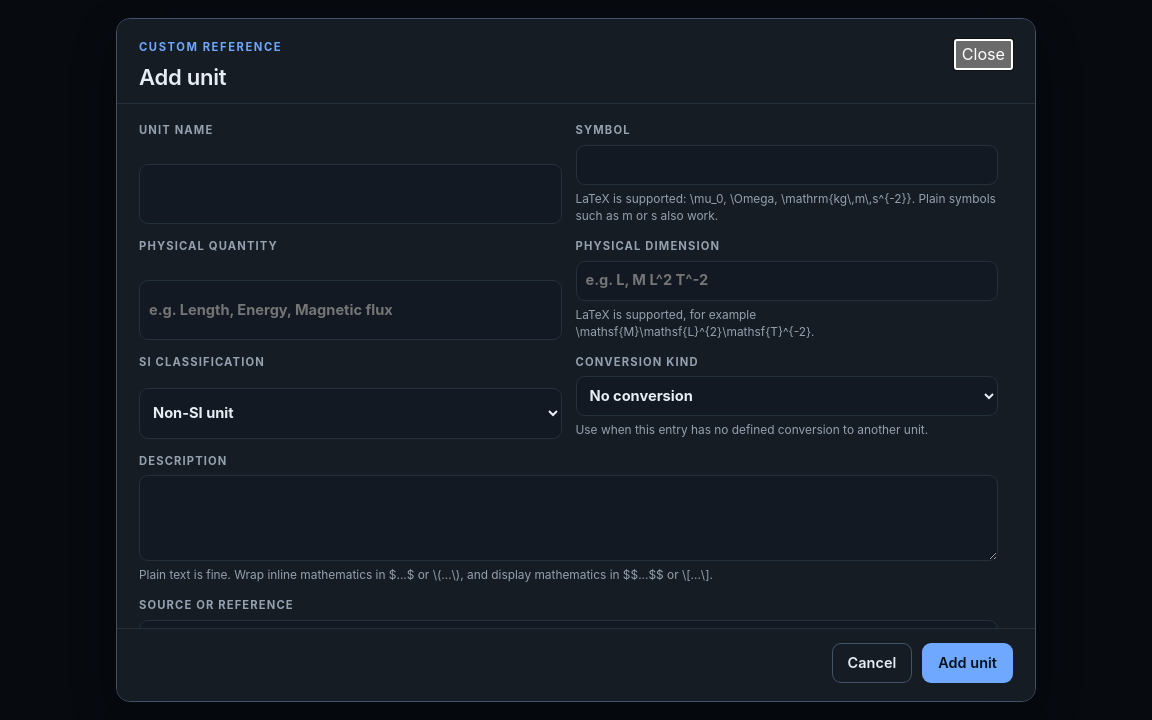
Test: CustomUnitEditor › shows a general error for a duplicate symbol
Type "Foot" into the field labelled "Unit name" at (350, 194), box [139,164,562,224]
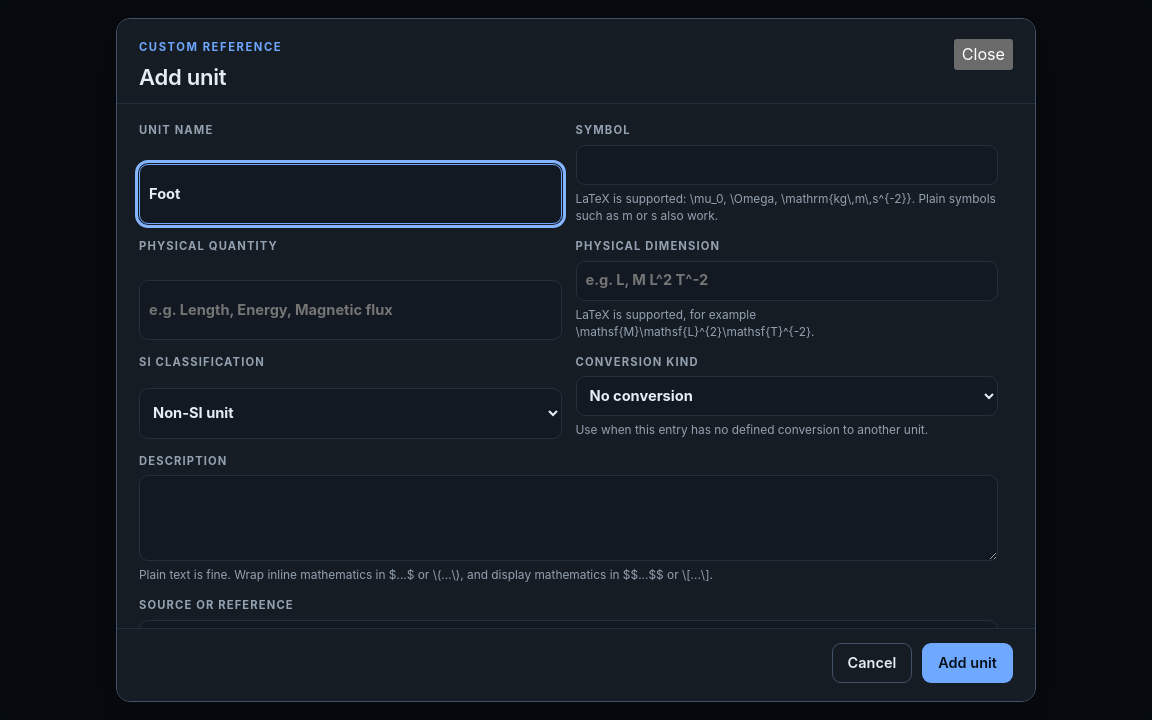
Type "ft" into the field labelled "Symbol" at (787, 165), box [576,145,998,185]
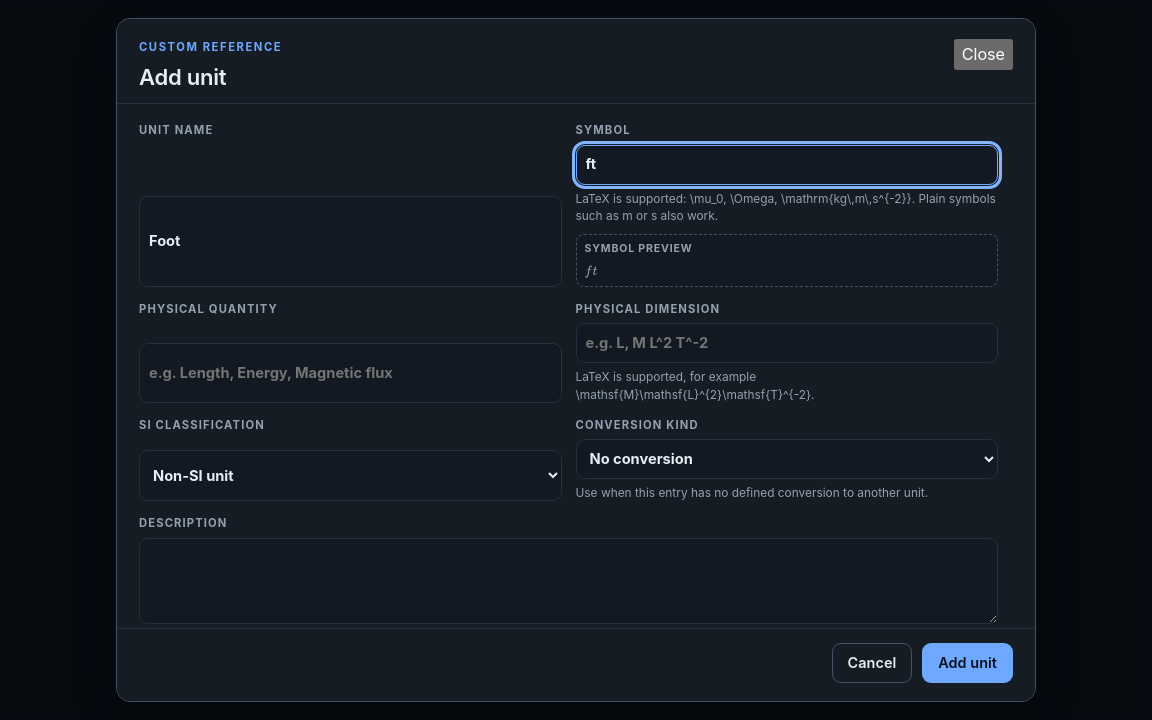
Type "Length" into the field labelled "Physical quantity" at (350, 373), box [139,343,562,403]
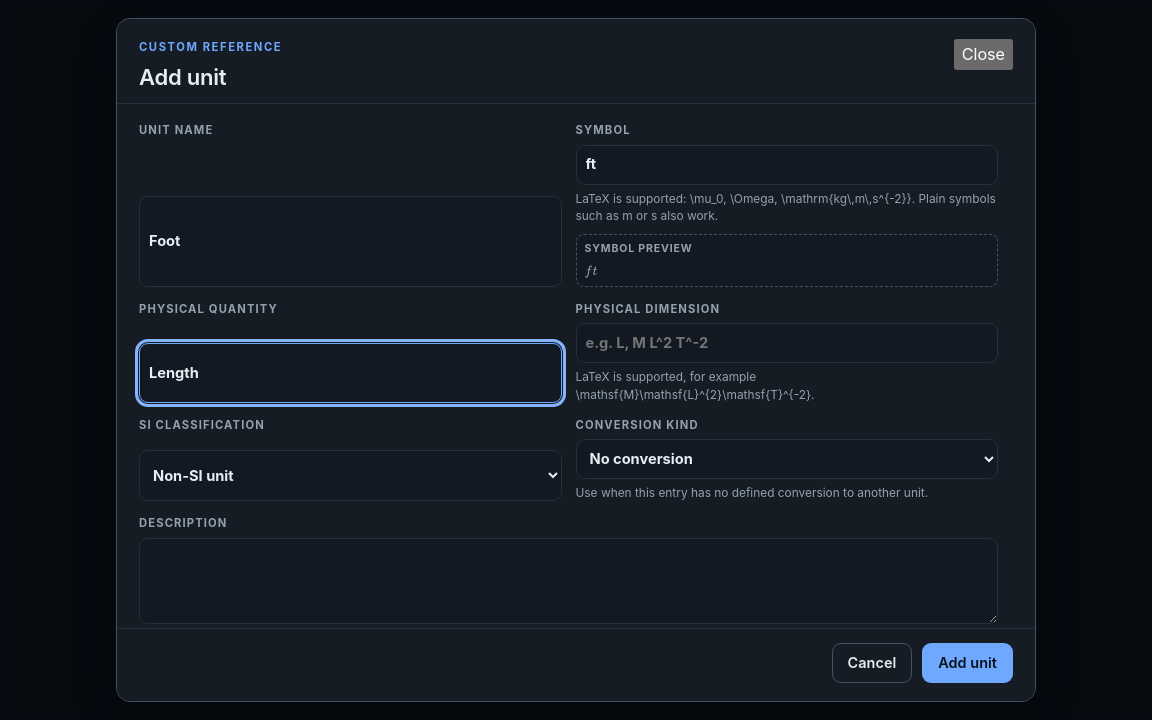
Type "Imperial unit of length." into the text box labelled "Description" at (568, 581), box [139,538,998,624]
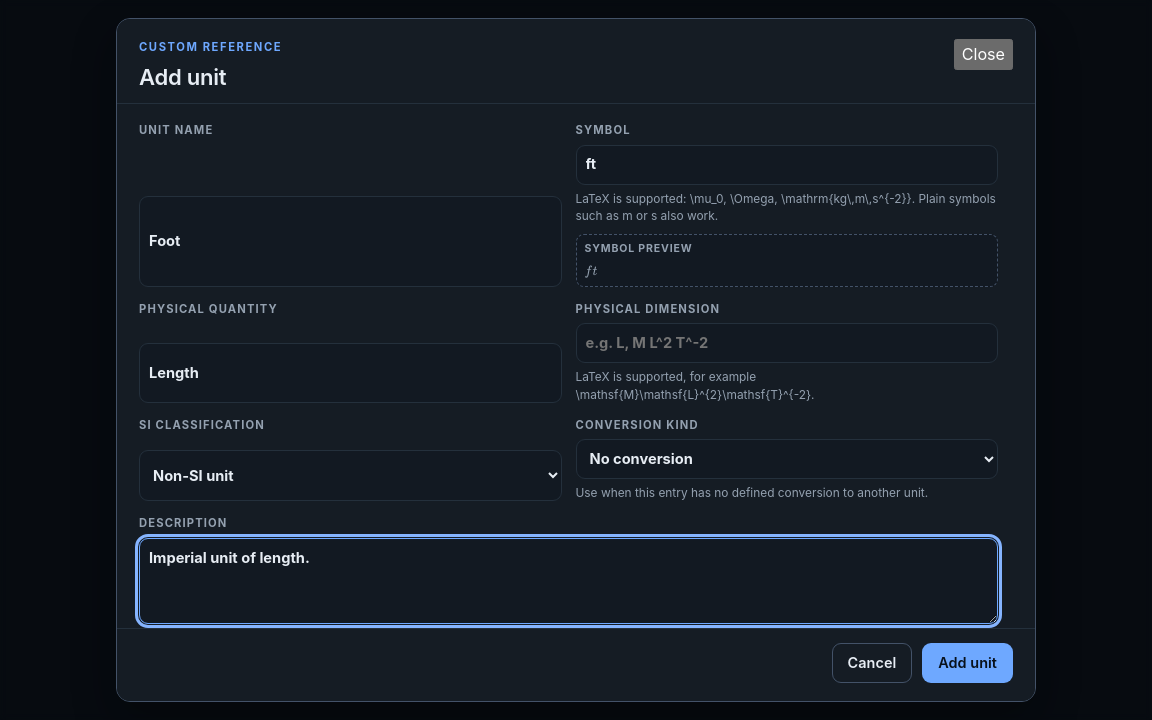
Click the button "Add unit" at (968, 663), box [922,643,1013,683]
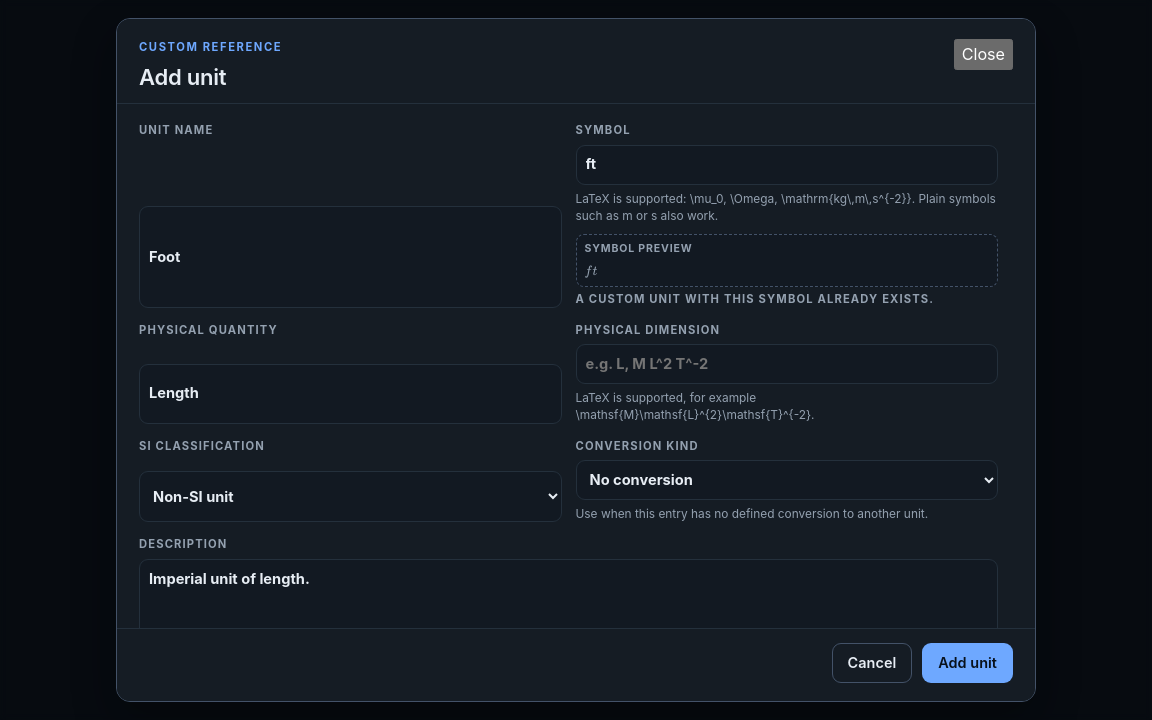
expect the text "A custom unit with this symbol already exists." is shown: met, box [576,292,934,306]
